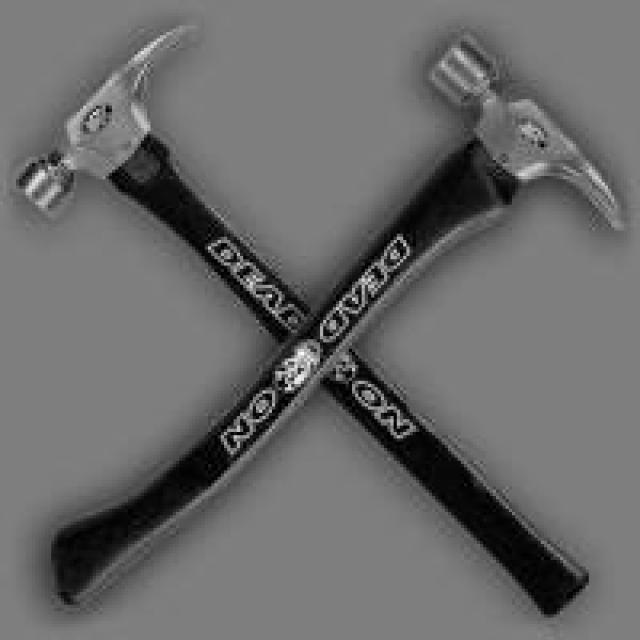hammer: (16, 22, 593, 621), (51, 35, 624, 608)
